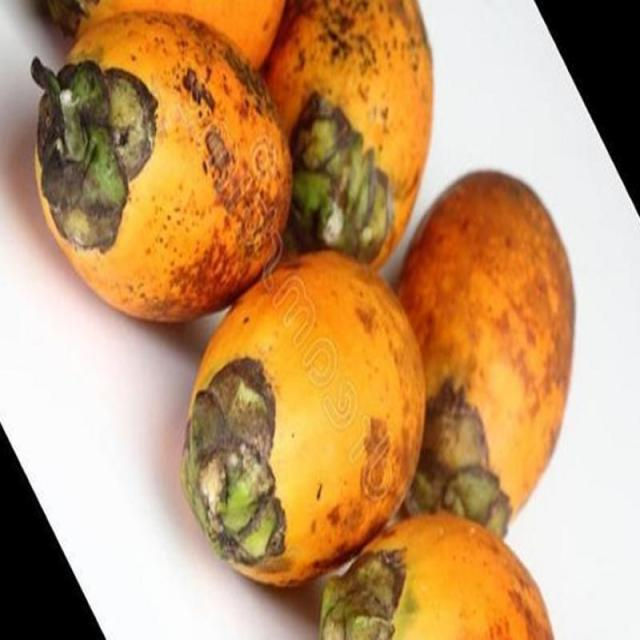good: (180, 252, 427, 591), (30, 13, 292, 324), (395, 172, 577, 525), (262, 0, 435, 269), (320, 515, 555, 639)
